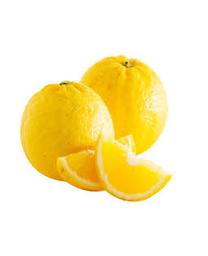lemon: (20, 83, 116, 180), (83, 55, 167, 153), (95, 134, 172, 202), (58, 136, 133, 193)
